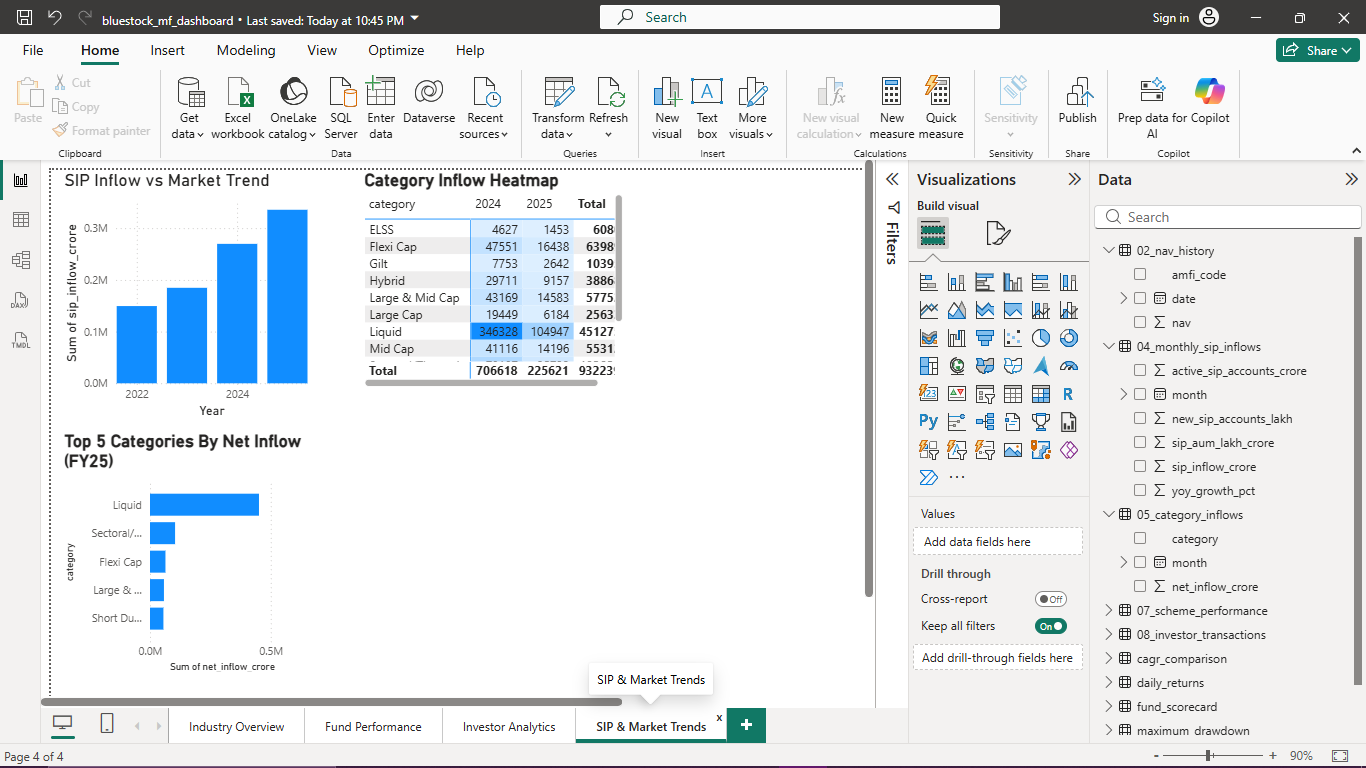

The dashboard page shown, as its layout file describes it:
{"tool":"powerbi","page":{"name":"SIP & Market Trends","canvas":[1280,720],"ordinal":3},"visuals":[{"type":"clusteredColumnChart","title":"SIP Inflow vs Market Trend","fields":{"Category":["04_monthly_sip_inflows.month.Variation.Date Hierarchy.Year","04_monthly_sip_inflows.month.Variation.Date Hierarchy.Quarter","04_monthly_sip_inflows.month.Variation.Date Hierarchy.Month","04_monthly_sip_inflows.month.Variation.Date Hierarchy.Day"],"Y":["Sum(04_monthly_sip_inflows.sip_inflow_crore)"]},"box":[10,0,280,280],"z":0},{"type":"pivotTable","title":"Category Inflow Heatmap","fields":{"Rows":["05_category_inflows.category"],"Columns":["05_category_inflows.month.Variation.Date Hierarchy.Year","05_category_inflows.month.Variation.Date Hierarchy.Quarter","05_category_inflows.month.Variation.Date Hierarchy.Month","05_category_inflows.month.Variation.Date Hierarchy.Day"],"Values":["Sum(05_category_inflows.net_inflow_crore)"]},"box":[343.3,0,296.7,245.6],"z":1},{"type":"clusteredBarChart","title":"Top 5 Categories By Net Inflow (FY25)","fields":{"Category":["05_category_inflows.category"],"Y":["Sum(05_category_inflows.net_inflow_crore)"]},"box":[10,290,280,272.2],"z":2}]}

Visuals, with their boxes on the page's 1280x720 design canvas (x1, y1, x2, y2). These are canvas units, not pixel positions in the 1366x768 screenshot, which may show the page scaled, cropped or inside an application window:
"SIP Inflow vs Market Trend" clusteredColumnChart: [10,0,290,280]
"Category Inflow Heatmap" pivotTable: [343,0,640,246]
"Top 5 Categories By Net Inflow (FY25)" clusteredBarChart: [10,290,290,562]
